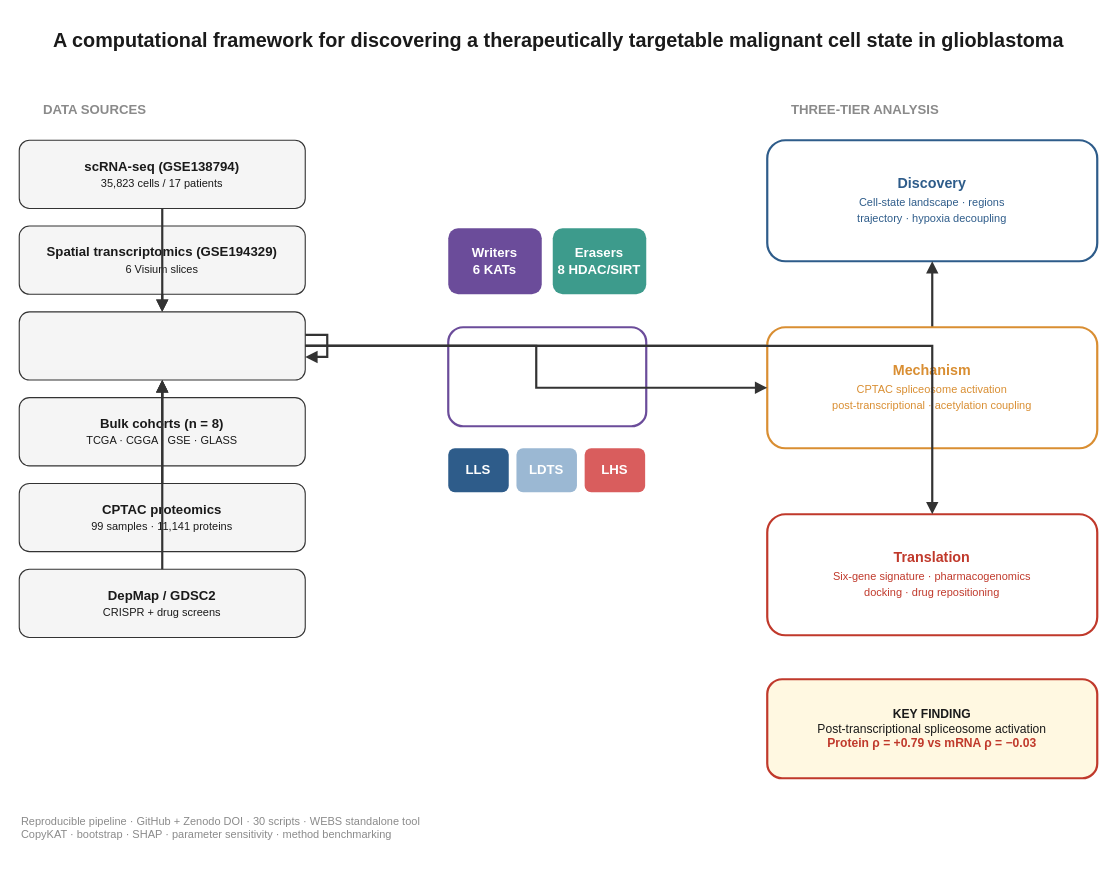
The diagram is 1118 pixels wide and 873 high, and some of its shapes have lost their labels. The centre of each missing label's shape, as x and y in pixels:
snATAC-seq (GSE138794) 6 libraries: the point at 161,345
WEBS UCell(writers) − UCell(erasers): the point at 547,376
